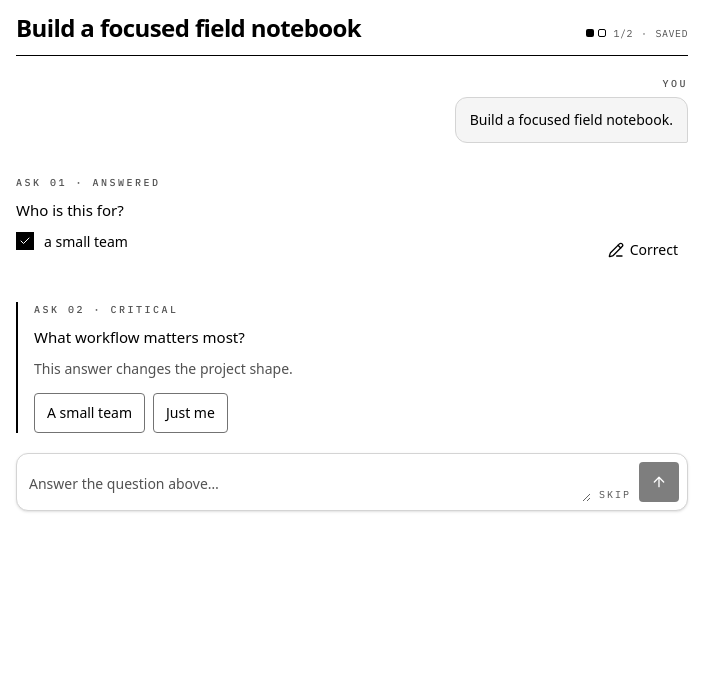
Test: DiscoveryFlow › surfaces a retryable status when the answer command fails
Step 1. Type "A multilingual internal workflow" into the text box named "Your answer" → (308,484), box [25, 466, 591, 502]
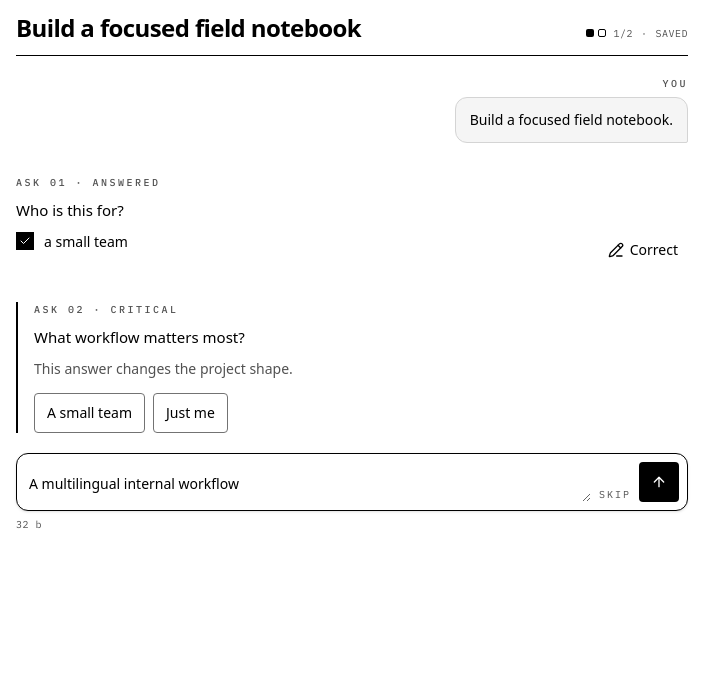
Step 2. Click the button named "Send" → (659,482), box [639, 462, 679, 502]
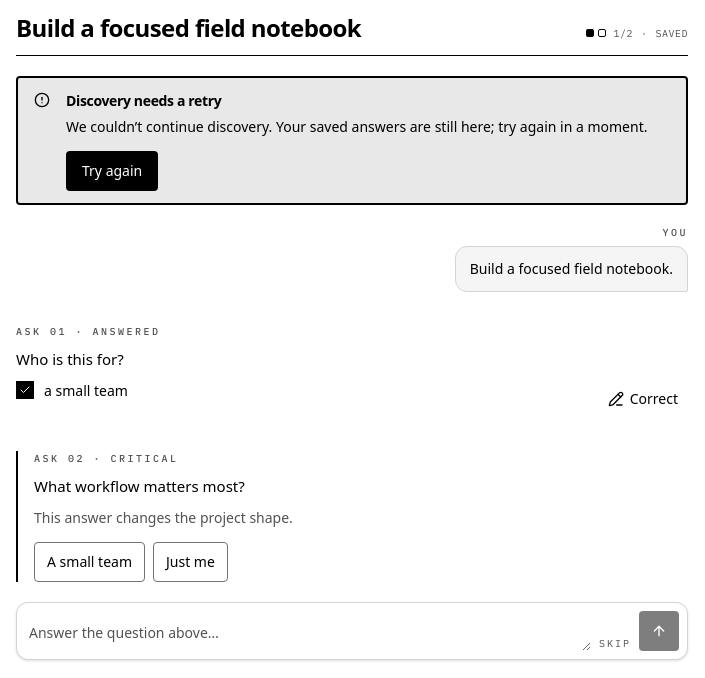
Expected: the message shows "Discovery needs a retry", [66, 91, 221, 110]
